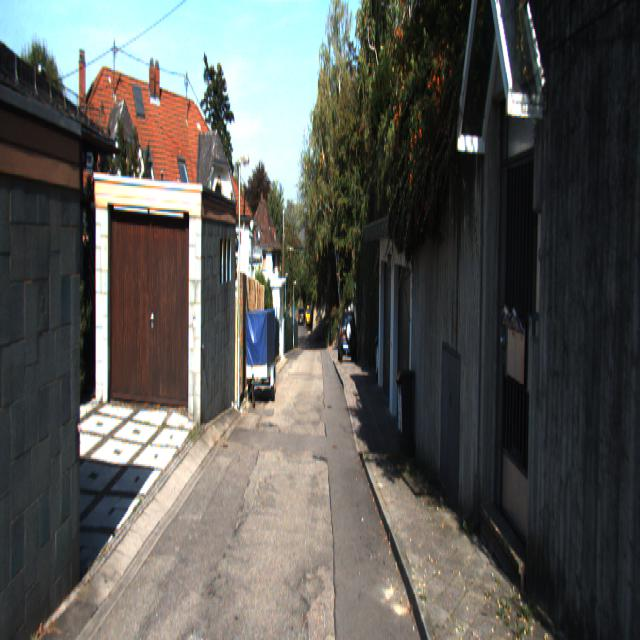Car: (245, 307, 275, 408), (337, 309, 357, 363)
